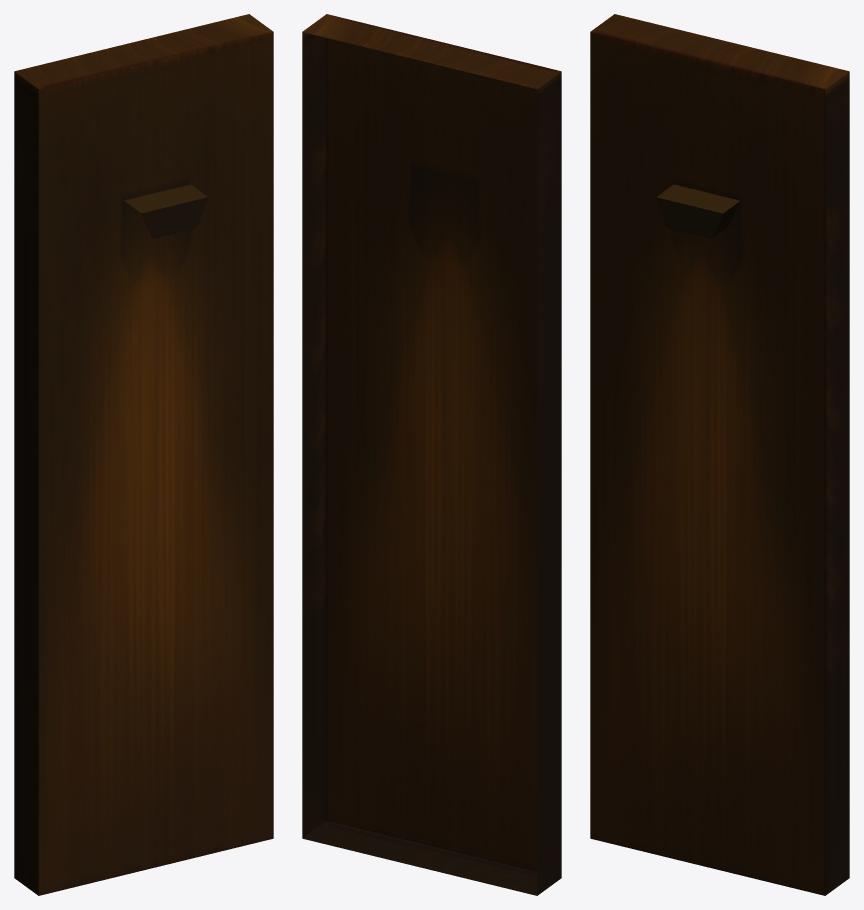
Rendered from Tx_prop_wall_light_33.fbx.
3 views of the same model, side by side, from view 1: azimuth 30°, elevation 25°; view 2: azimuth 150°, elevation 25°; view 3: azimuth 330°, elevation 25° (orthographic).
Parts seen in each view (by area): view 1: Tx_prop_wall_light2; view 2: Tx_prop_wall_light2; view 3: Tx_prop_wall_light2.
Boxes of the visible parts, x1=… form: Tx_prop_wall_light2: x1=14, y1=14, x2=273, y2=895; Tx_prop_wall_light2: x1=302, y1=14, x2=561, y2=895; Tx_prop_wall_light2: x1=590, y1=14, x2=849, y2=895.
Size of the model in its own units: 5.79 by 18.98 by 1.83.
